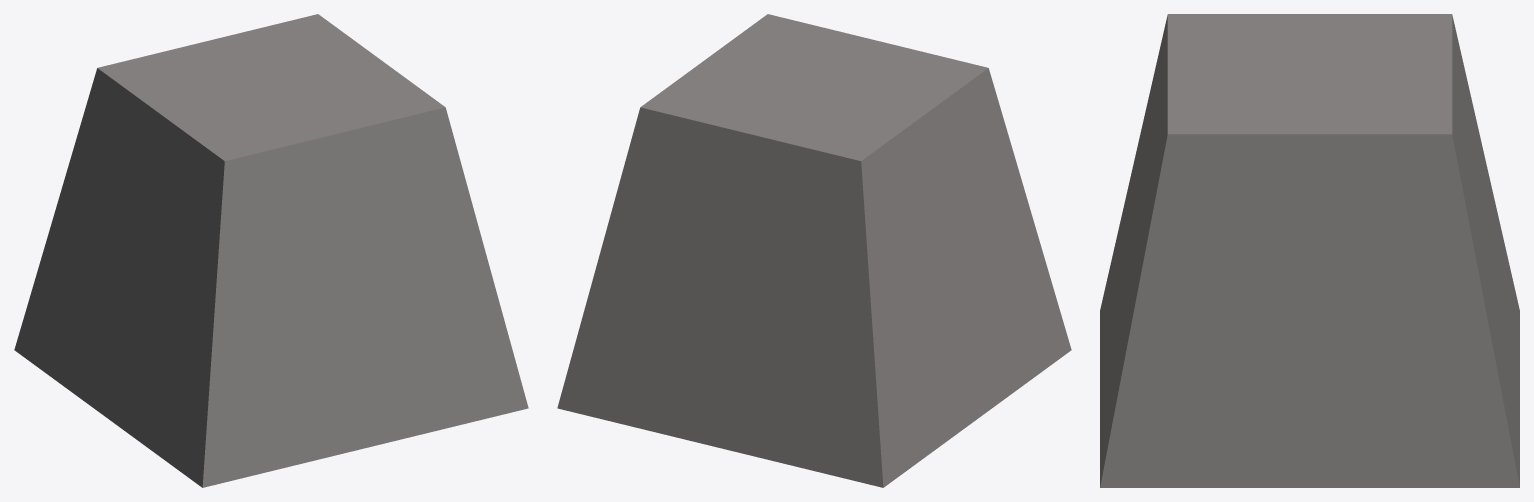
File: SM_Env_Road_Edge_Corner_01.fbx
3 renders of one model, left to right at view 1: azimuth 30°, elevation 25°; view 2: azimuth 150°, elevation 25°; view 3: azimuth 270°, elevation 25°, orthographic. The views are drawn at different scales.
Visible parts, largest first — view 1: SM_Env_Road_Edge_Corner_01; view 2: SM_Env_Road_Edge_Corner_01; view 3: SM_Env_Road_Edge_Corner_01.
Part boxes in pixels (bbox=[...]): SM_Env_Road_Edge_Corner_01: bbox=[14, 14, 528, 487]; SM_Env_Road_Edge_Corner_01: bbox=[557, 14, 1071, 487]; SM_Env_Road_Edge_Corner_01: bbox=[1100, 14, 1519, 487].
Size of the model in its own units: 60.3 by 51.53 by 60.3.
